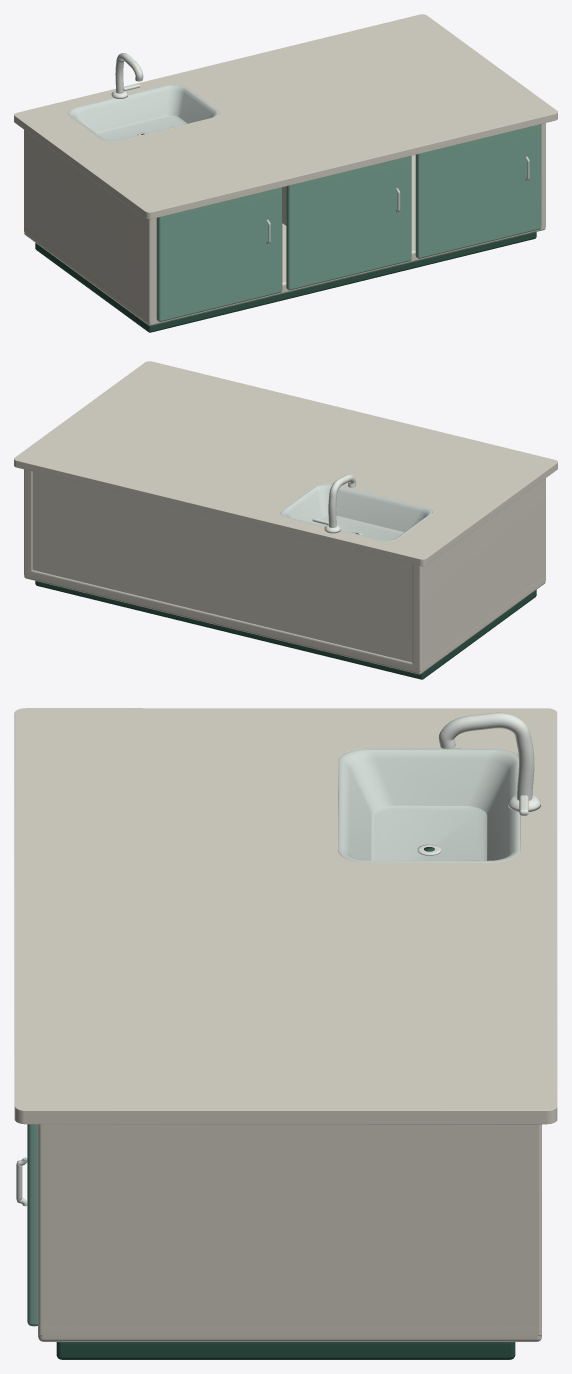
The model's file is sink-workcounter.glb.
3 renders of one model, top to bottom at view 1: azimuth 30°, elevation 25°; view 2: azimuth 150°, elevation 25°; view 3: azimuth 270°, elevation 25°, orthographic. The views are drawn at different scales.
Parts seen in each view (by area): view 1: sink-workcounter | material-batched geometry; view 2: sink-workcounter | material-batched geometry; view 3: sink-workcounter | material-batched geometry.
Boxes of the visible parts, x1=… form: sink-workcounter | material-batched geometry: x1=14, y1=14, x2=557, y2=332; sink-workcounter | material-batched geometry: x1=14, y1=361, x2=557, y2=679; sink-workcounter | material-batched geometry: x1=14, y1=708, x2=557, y2=1359.
Bounding box in the file's own units: 4.65 × 1.91 × 2.65.
